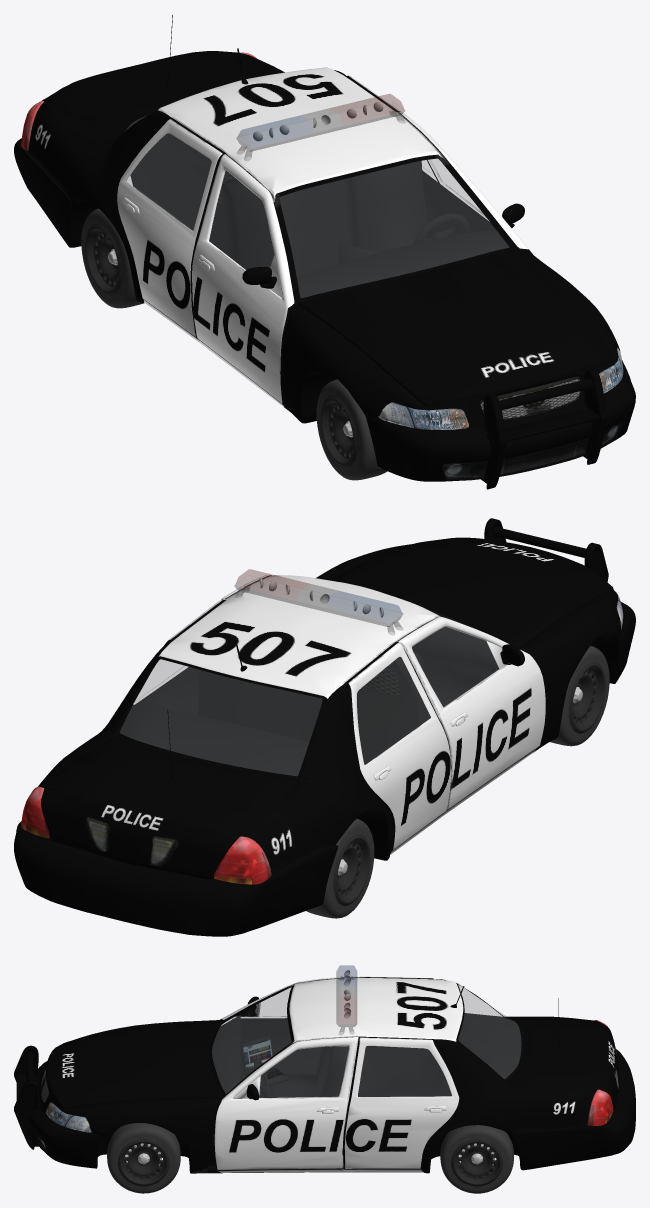
Rendered from police.glb.
3 views of the same model, one above another, from view 1: azimuth 30°, elevation 25°; view 2: azimuth 150°, elevation 25°; view 3: azimuth 270°, elevation 25° (orthographic). The views are drawn at different scales.
Visible parts, largest first — view 1: CrownVic.Body, windows glass, interior, CrownVic.Wheel.Ft.R, Roof light bar, CrownVic.Wheel.Bk.R; view 2: CrownVic.Body, windows glass, interior, Roof light bar, CrownVic.Wheel.Bk.R, CrownVic.Wheel.Ft.R; view 3: CrownVic.Body, windows glass, interior, CrownVic.Wheel.Ft.L, CrownVic.Wheel.Bk.L, Roof light bar.
Boxes of the visible parts, x1,y1,x2,y2 form: CrownVic.Body: (14,15,635,489); windows glass: (126,110,508,297); interior: (110,116,509,298); CrownVic.Wheel.Ft.R: (316,379,387,480); Roof light bar: (236,94,405,160); CrownVic.Wheel.Bk.R: (81,208,144,308); CrownVic.Body: (14,518,635,936); windows glass: (120,608,498,775); interior: (110,615,498,781); Roof light bar: (234,569,403,635); CrownVic.Wheel.Bk.R: (306,818,374,918); CrownVic.Wheel.Ft.R: (550,645,609,746); CrownVic.Body: (14,976,635,1173); windows glass: (212,985,521,1097); interior: (212,1013,521,1097); CrownVic.Wheel.Ft.L: (107,1123,180,1193); CrownVic.Wheel.Bk.L: (440,1125,513,1193); Roof light bar: (336,965,356,1034).
Size of the model in its own units: 2.48 by 1.98 by 6.7.
Materials: 7 (5 with a texture image).
